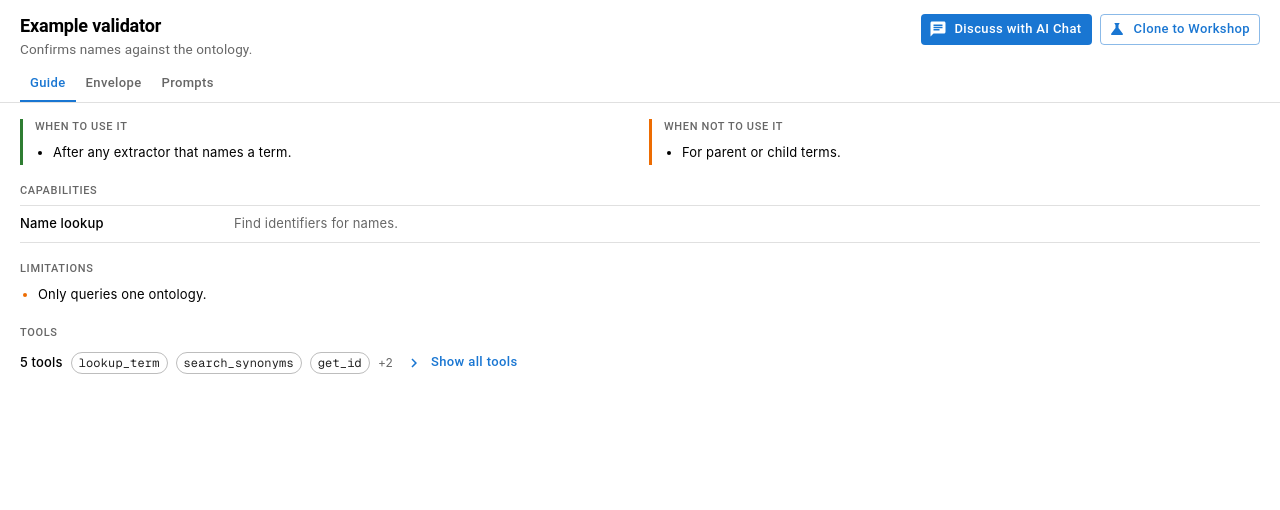
Test: AgentDetailsPanel › shows the Envelope tab only when the agent declares a domain pack
The image size is (1280, 510).
Click the tab "Envelope".
click(114, 84)  # box left=76, top=66, right=152, bottom=102
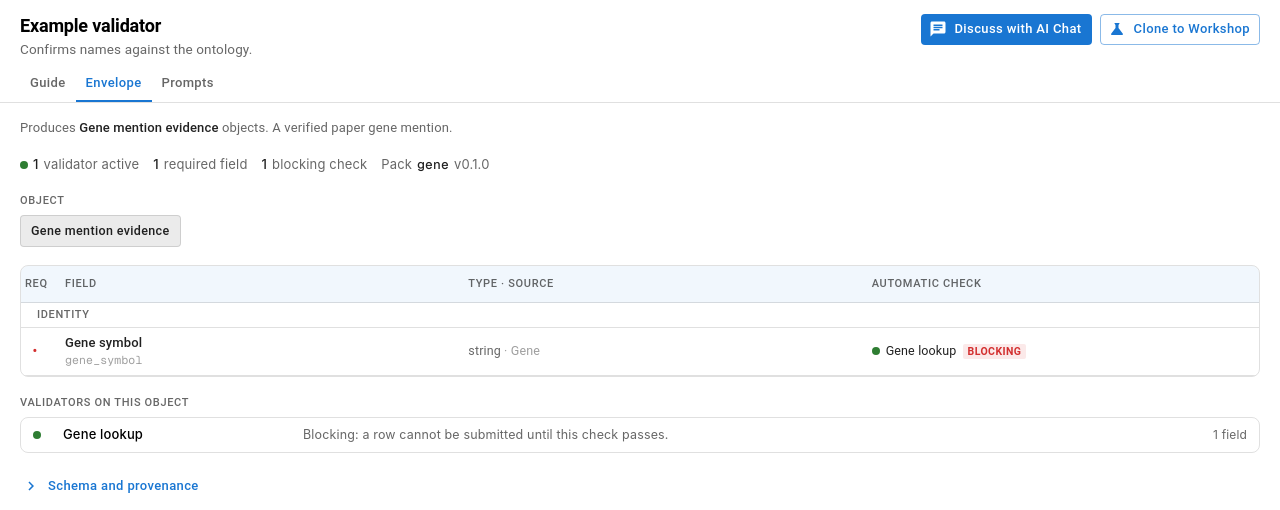
Now the table named "Gene mention evidence fields" is shown, box left=21, top=266, right=1259, bottom=376
